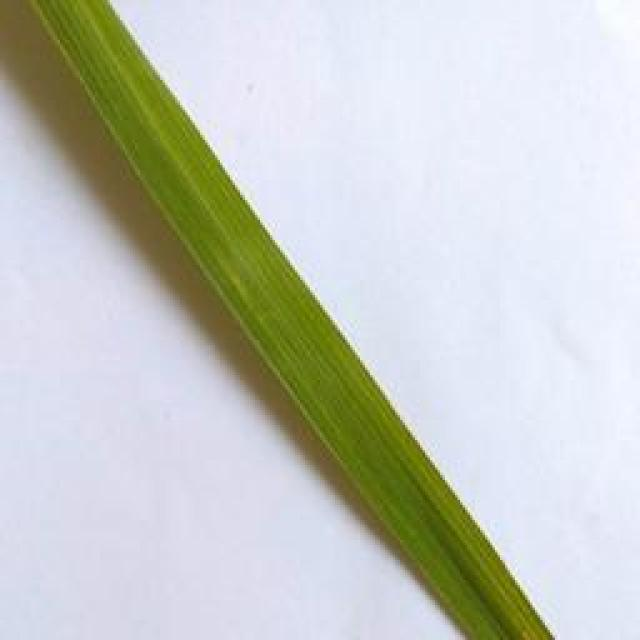Healthy-Plant: (31, 0, 552, 640)
